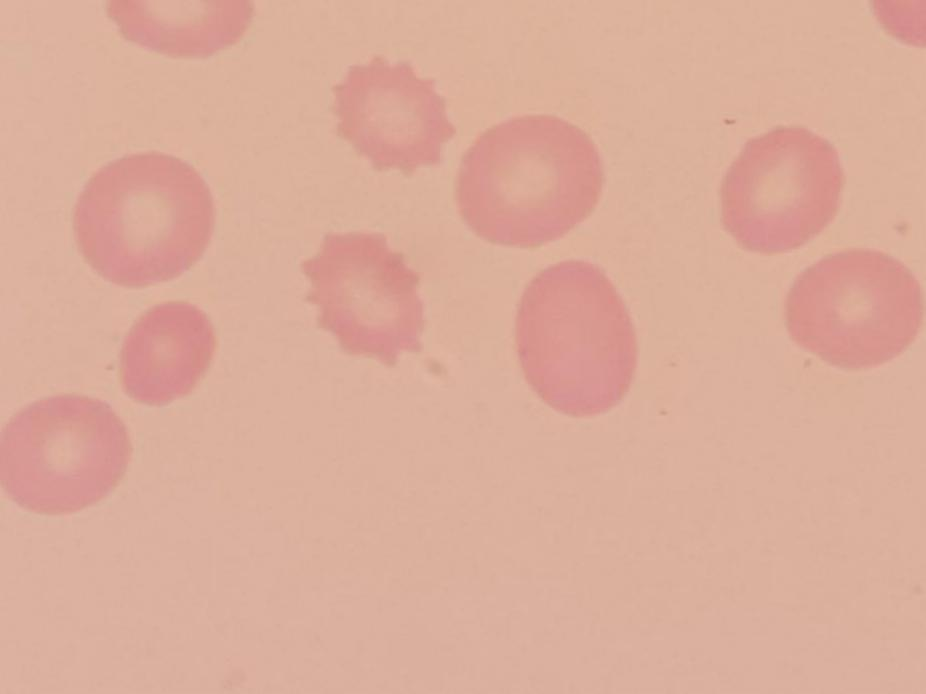Uninfected: (452, 116, 604, 248), (513, 257, 634, 419), (72, 151, 211, 291), (300, 229, 427, 365), (787, 247, 920, 370), (2, 396, 133, 518), (720, 126, 842, 255), (330, 56, 454, 175), (115, 301, 216, 408)
